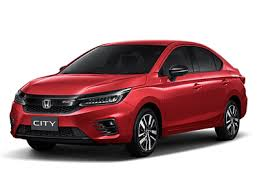Honda: (10, 37, 248, 157)
